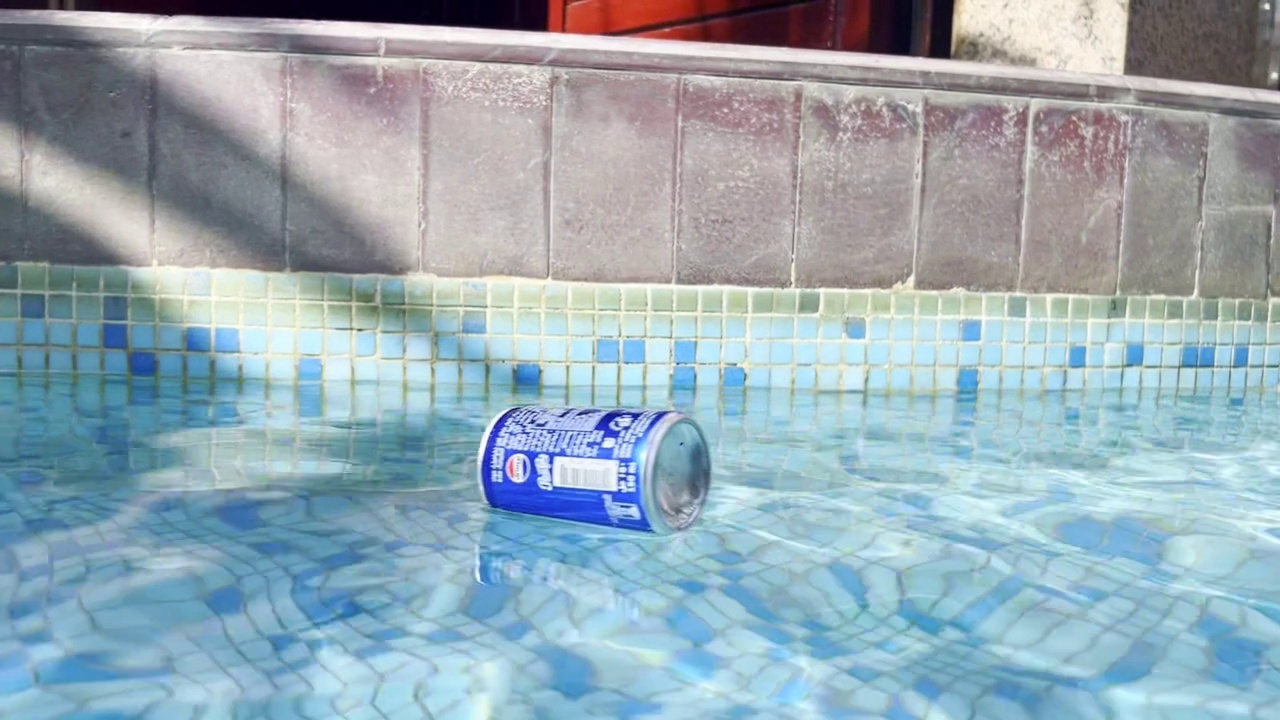debris: (467, 395, 720, 539)
